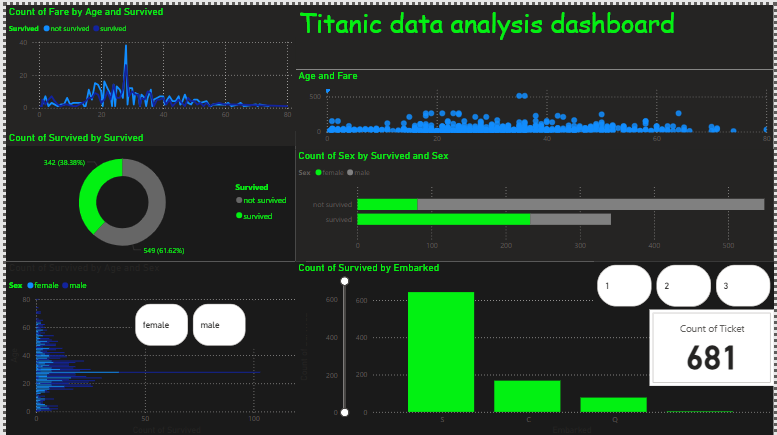

Layout of this report page (visuals, bound fields, positions):
{"tool":"powerbi","page":{"name":"Page 1","canvas":[1280,720],"ordinal":0},"visuals":[{"type":"donutChart","fields":{"Y":["CountNonNull(Titanic dataset.Survived)"],"Category":["Titanic dataset.Survived"]},"box":[0,210,482.5,217.5],"z":0},{"type":"barChart","fields":{"Category":["Titanic dataset.Survived"],"Y":["CountNonNull(Titanic dataset.Sex)"],"Series":["Titanic dataset.Sex"]},"box":[482.5,240,797.5,187.5],"z":1000},{"type":"barChart","fields":{"Category":["Titanic dataset.Age"],"Y":["CountNonNull(Titanic dataset.Survived)"],"Series":["Titanic dataset.Sex"]},"box":[0,427.3,500,292.7],"z":2000},{"type":"clusteredColumnChart","fields":{"Category":["Titanic dataset.Embarked"],"Y":["CountNonNull(Titanic dataset.Survived)"]},"box":[483.3,426.7,796.7,293.3],"z":3000},{"type":"scatterChart","fields":{"X":["Titanic dataset.Age"],"Y":["Titanic dataset.Fare"]},"box":[483.3,106.7,796.7,133.3],"z":4000},{"type":"advancedSlicerVisual","fields":{"Values":["Titanic dataset.Sex"]},"box":[210,492.5,290,80],"z":5000},{"type":"lineChart","fields":{"Category":["Titanic dataset.Age"],"Y":["Count(Titanic dataset.Fare)"],"Series":["Titanic dataset.Survived"]},"box":[0,0,483.3,210],"z":6000},{"type":"advancedSlicerVisual","fields":{"Values":["Titanic dataset.Pclass"]},"box":[980,426.7,300,80],"z":7000},{"type":"cardVisual","fields":{"Data":["Count(Titanic dataset.Ticket)"]},"box":[1073.3,510,206.7,126.7],"z":8000},{"type":"textbox","title":"Titanic data analysis dashboard","box":[483.3,0,796.7,106.7],"z":9000}]}

Visuals, with their boxes in screenshot pixels (x1, y1, x2, y2), scaled from the page's 1280x720 canvas onto the 777x435 screenshot:
donutChart - CountNonNull(Titanic dataset.Survived) x Titanic dataset.Survived: 0 127 293 258
barChart - Titanic dataset.Survived x CountNonNull(Titanic dataset.Sex): 293 145 776 258
barChart - Titanic dataset.Age x CountNonNull(Titanic dataset.Survived): 0 258 304 434
clusteredColumnChart - Titanic dataset.Embarked x CountNonNull(Titanic dataset.Survived): 293 258 776 434
scatterChart - Titanic dataset.Age x Titanic dataset.Fare: 293 64 776 145
advancedSlicerVisual - Titanic dataset.Sex: 127 298 304 346
lineChart - Titanic dataset.Age x Count(Titanic dataset.Fare): 0 0 293 127
advancedSlicerVisual - Titanic dataset.Pclass: 595 258 776 306
cardVisual - Count(Titanic dataset.Ticket): 652 308 776 385
"Titanic data analysis dashboard" textbox: 293 0 776 64
